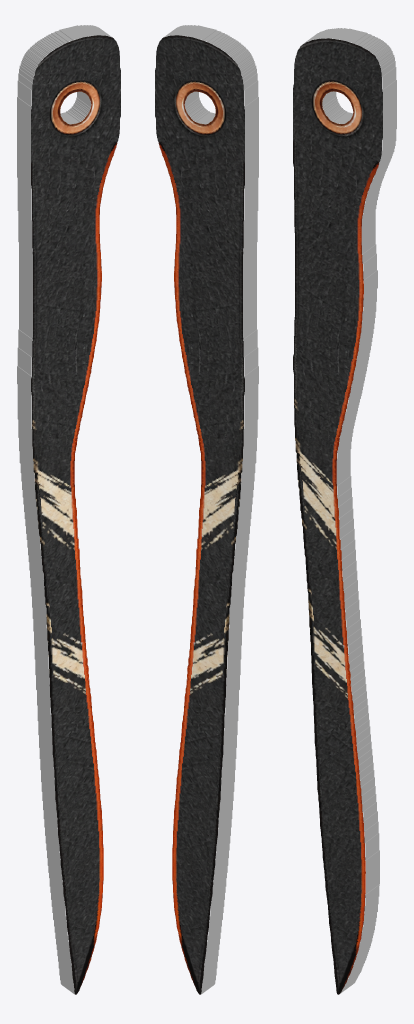
The model's file is LowerLeg.glb.
The picture shows the model from 3 angles, left to right: view 1: azimuth 30°, elevation 25°; view 2: azimuth 150°, elevation 25°; view 3: azimuth 330°, elevation 25°; orthographic projection.
Visible parts, largest first — view 1: PaperVolume; view 2: PaperVolume; view 3: PaperVolume.
Boxes of the visible parts, x1=… form: PaperVolume: x1=17, y1=25, x2=120, y2=994; PaperVolume: x1=155, y1=25, x2=258, y2=994; PaperVolume: x1=293, y1=28, x2=396, y2=994.
Bounding box in the file's own units: 0.3146 × 3.04 × 0.08.
3 materials, 2 textured.
